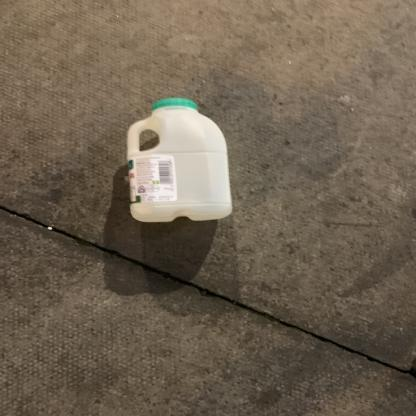trash: (126, 96, 239, 224)
